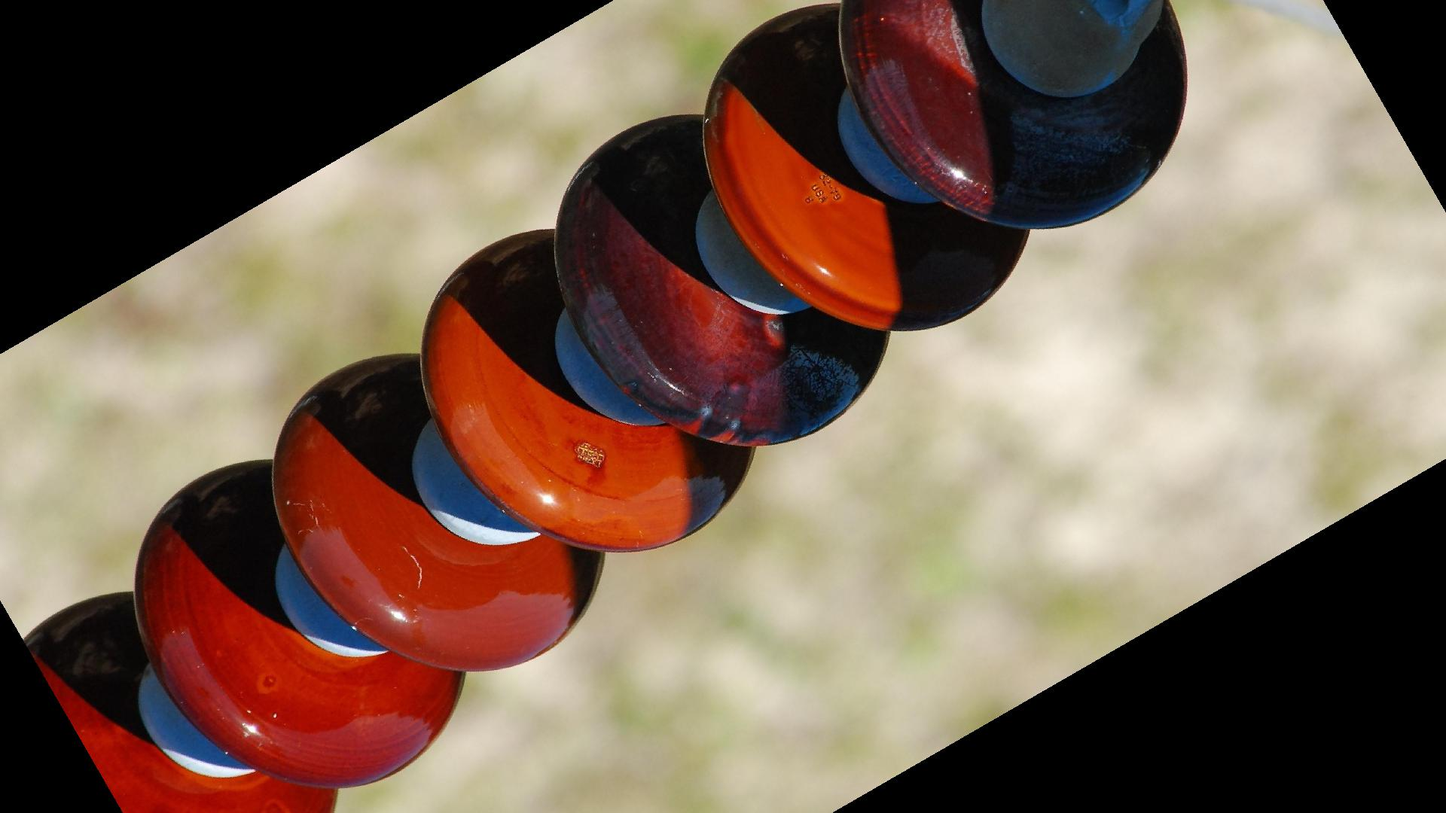insulator: (21, 1, 1196, 813)
insulator_flashover: (694, 346, 865, 443)
